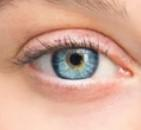eye: (52, 46, 100, 79)
